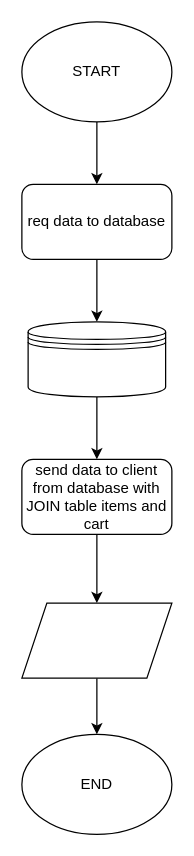
This 194x856 diagram has some shape labels left out. Each missing label, with the box of its shape:
database cart: (27, 321, 166, 397)
result: (21, 602, 172, 678)
